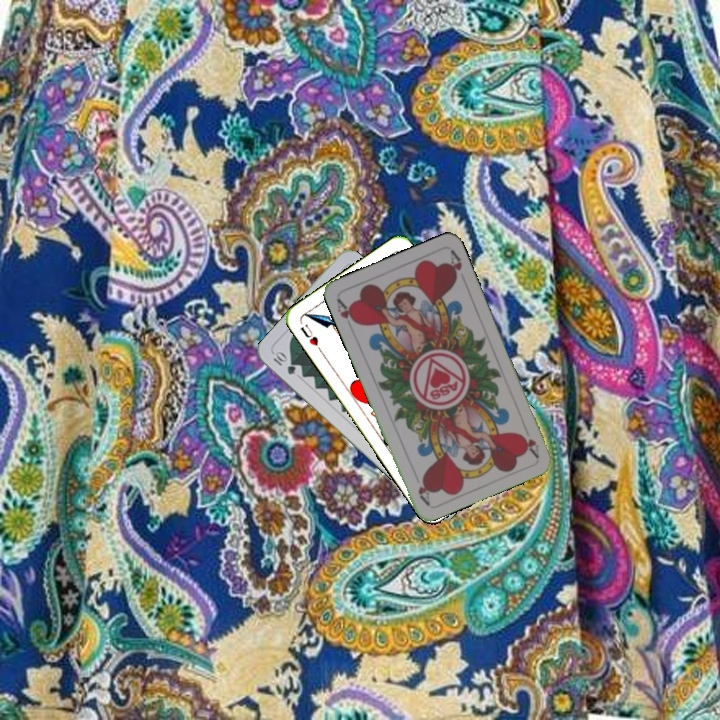G10: (269, 348, 298, 377)
HA: (332, 294, 361, 333), (517, 430, 542, 460)
HU: (296, 320, 324, 354)
